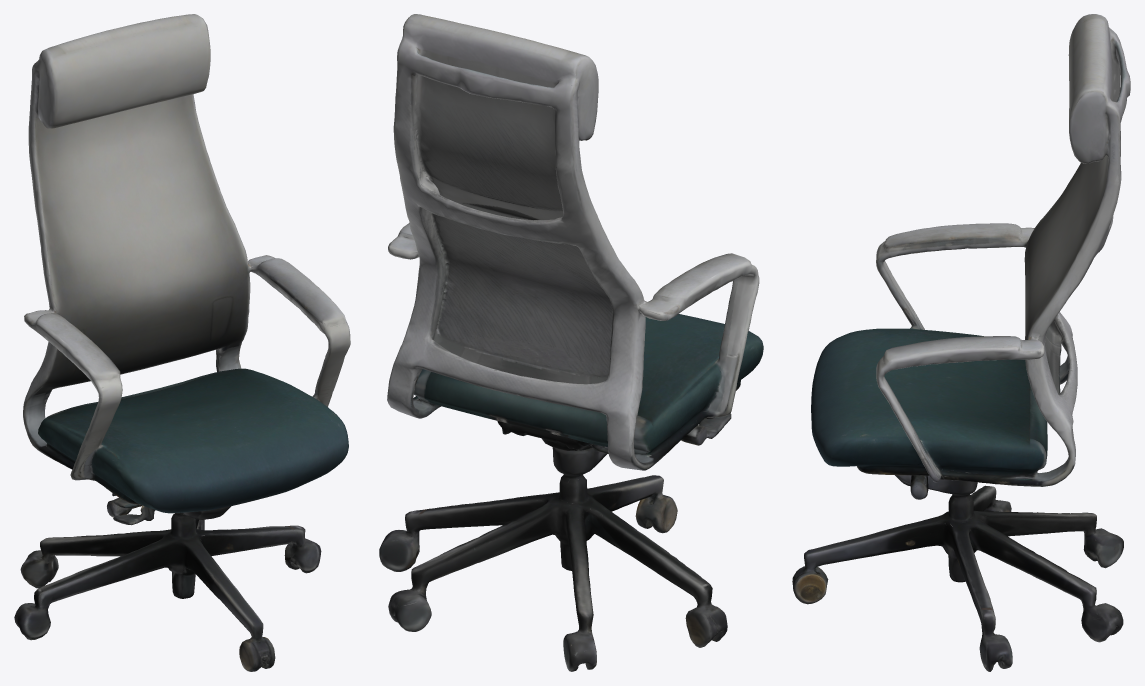
3 views of the same model, side by side, from view 1: azimuth 30°, elevation 25°; view 2: azimuth 150°, elevation 25°; view 3: azimuth 270°, elevation 25° (orthographic). The views are drawn at different scales.
Bounding box in the file's own units: 1.18 × 2.02 × 1.11.
Materials: 1 (1 with a texture image).
